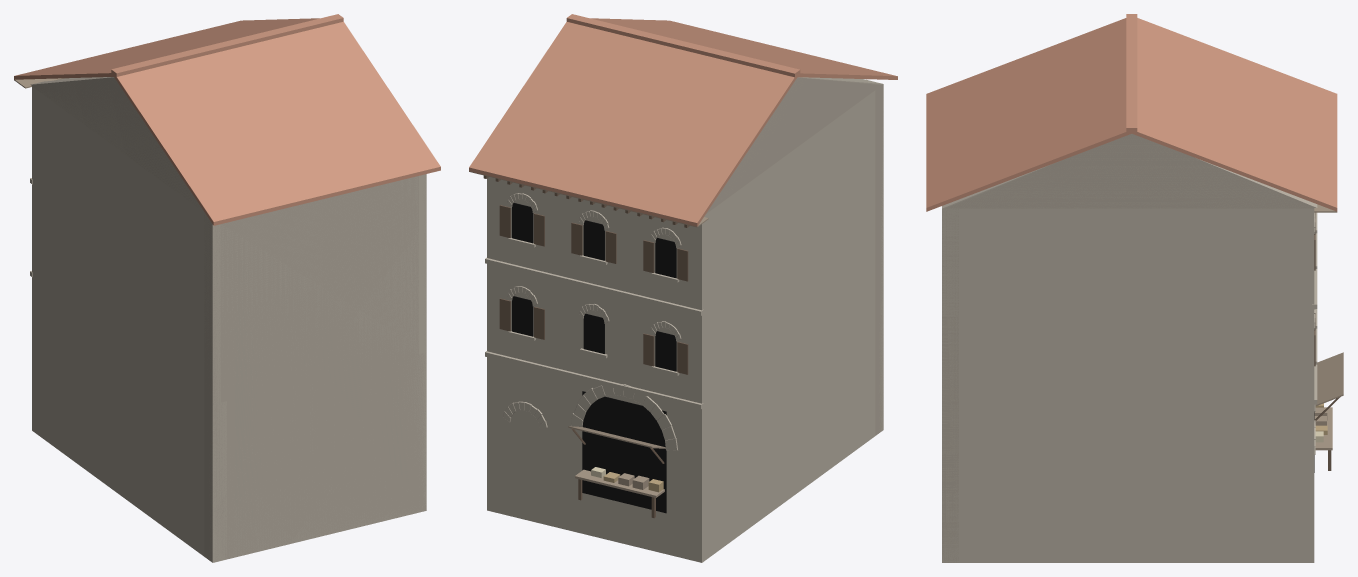
Rendered from casa-82-2-pietra.glb.
3 views of the same model, side by side, from view 1: azimuth 30°, elevation 25°; view 2: azimuth 150°, elevation 25°; view 3: azimuth 270°, elevation 25° (orthographic). The views are drawn at different scales.
Visible parts, largest first — view 1: vicino, lontano; view 2: vicino, lontano, aperta; view 3: vicino, lontano, aperta.
Boxes of the visible parts, bbox=[...] form: vicino: bbox=[14, 14, 440, 562]; lontano: bbox=[14, 74, 440, 561]; vicino: bbox=[469, 14, 897, 562]; lontano: bbox=[469, 74, 896, 561]; aperta: bbox=[568, 426, 665, 518]; vicino: bbox=[926, 14, 1337, 562]; lontano: bbox=[926, 131, 1337, 562]; aperta: bbox=[1314, 352, 1343, 470].
Bounding box in the file's own units: 8.7 × 15.58 × 13.45.
